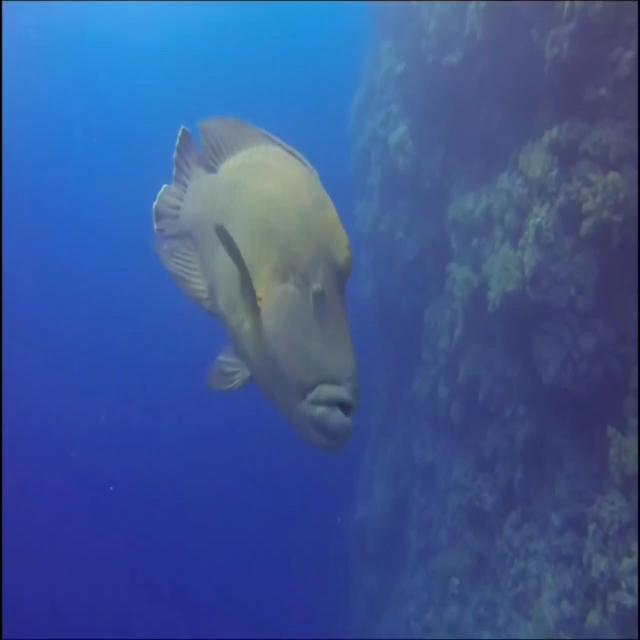Napoleon -Endangered-: (152, 114, 361, 452)
